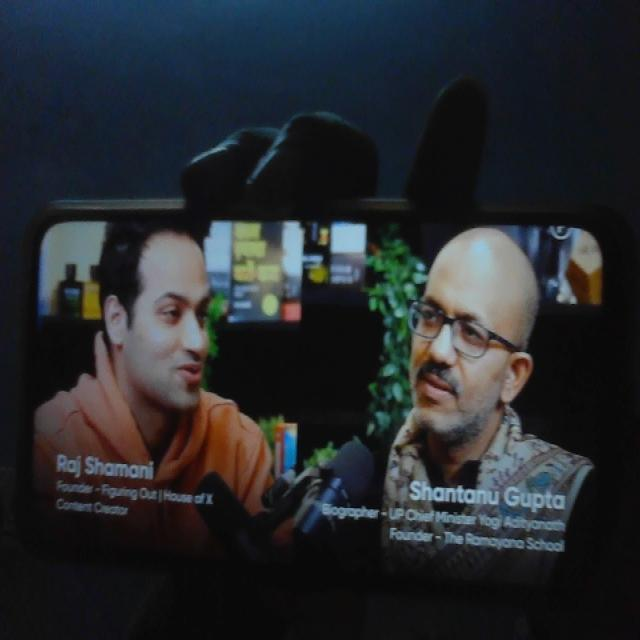fake: (394, 194, 532, 454), (99, 187, 227, 428)
